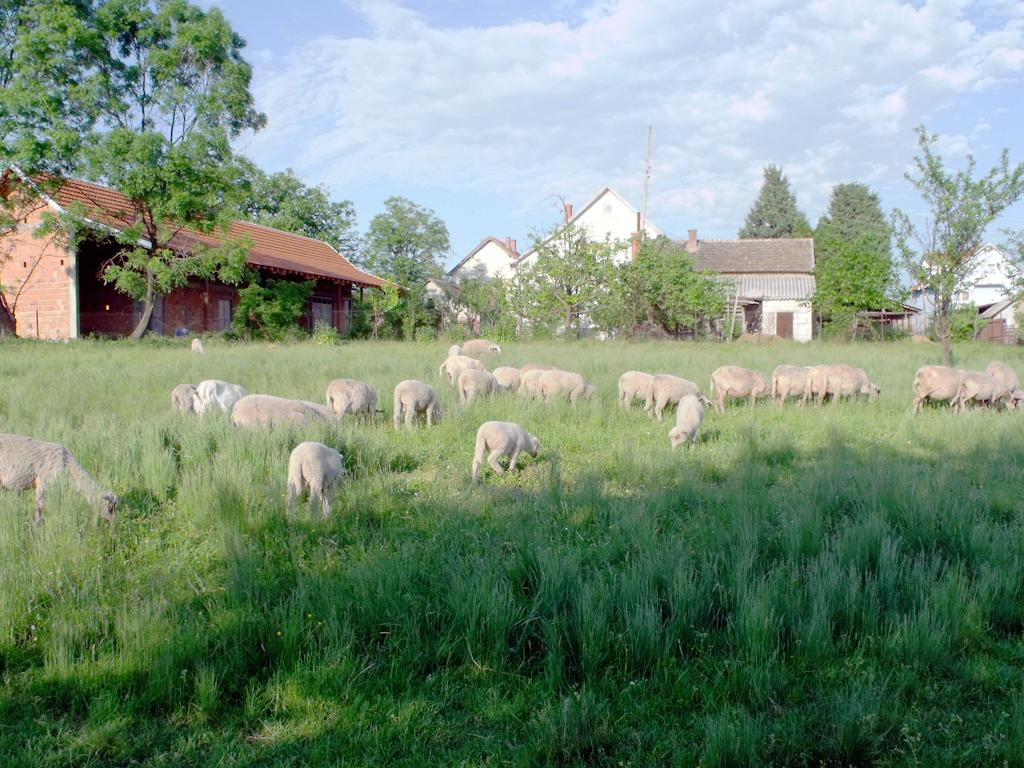Sheep: (0, 428, 121, 525), (274, 436, 356, 520), (461, 405, 540, 492), (232, 392, 328, 433), (658, 402, 712, 472), (711, 351, 770, 415), (319, 369, 385, 425), (965, 356, 1023, 419), (388, 372, 442, 436), (900, 360, 959, 413), (831, 352, 884, 404), (772, 360, 818, 405), (199, 379, 249, 413), (541, 373, 597, 401), (454, 368, 494, 406), (618, 367, 650, 413), (519, 362, 557, 399), (658, 371, 702, 400), (440, 356, 485, 383), (172, 382, 197, 415), (494, 365, 520, 395), (463, 339, 502, 357), (190, 337, 206, 356)
